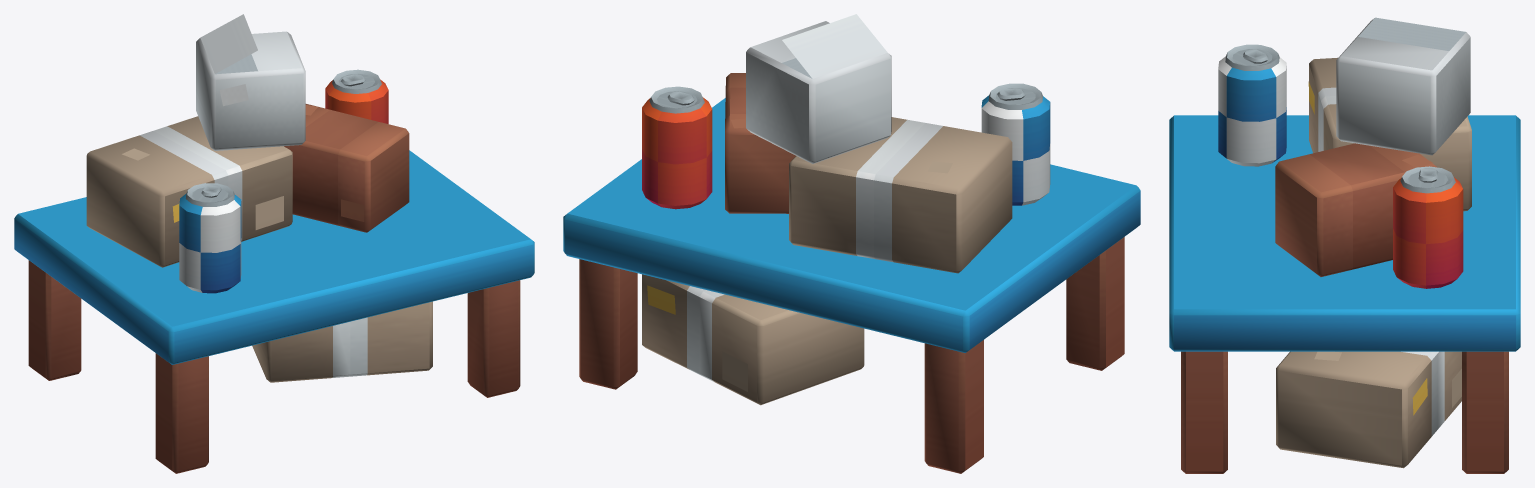
The model's file is table-medium-decorated.glb.
3 renders of one model, left to right at view 1: azimuth 30°, elevation 25°; view 2: azimuth 150°, elevation 25°; view 3: azimuth 270°, elevation 25°, orthographic. The views are drawn at different scales.
Parts seen in each view (by area): view 1: table_medium_Decorated; view 2: table_medium_Decorated; view 3: table_medium_Decorated.
Boxes of the visible parts, left/top/right/bottom form: table_medium_Decorated: left=14, top=14, right=534, bottom=473; table_medium_Decorated: left=563, top=14, right=1140, bottom=473; table_medium_Decorated: left=1169, top=17, right=1520, bottom=473.
Bounding box in the file's own units: 2 × 1.71 × 1.5.
1 material, 1 textured.
